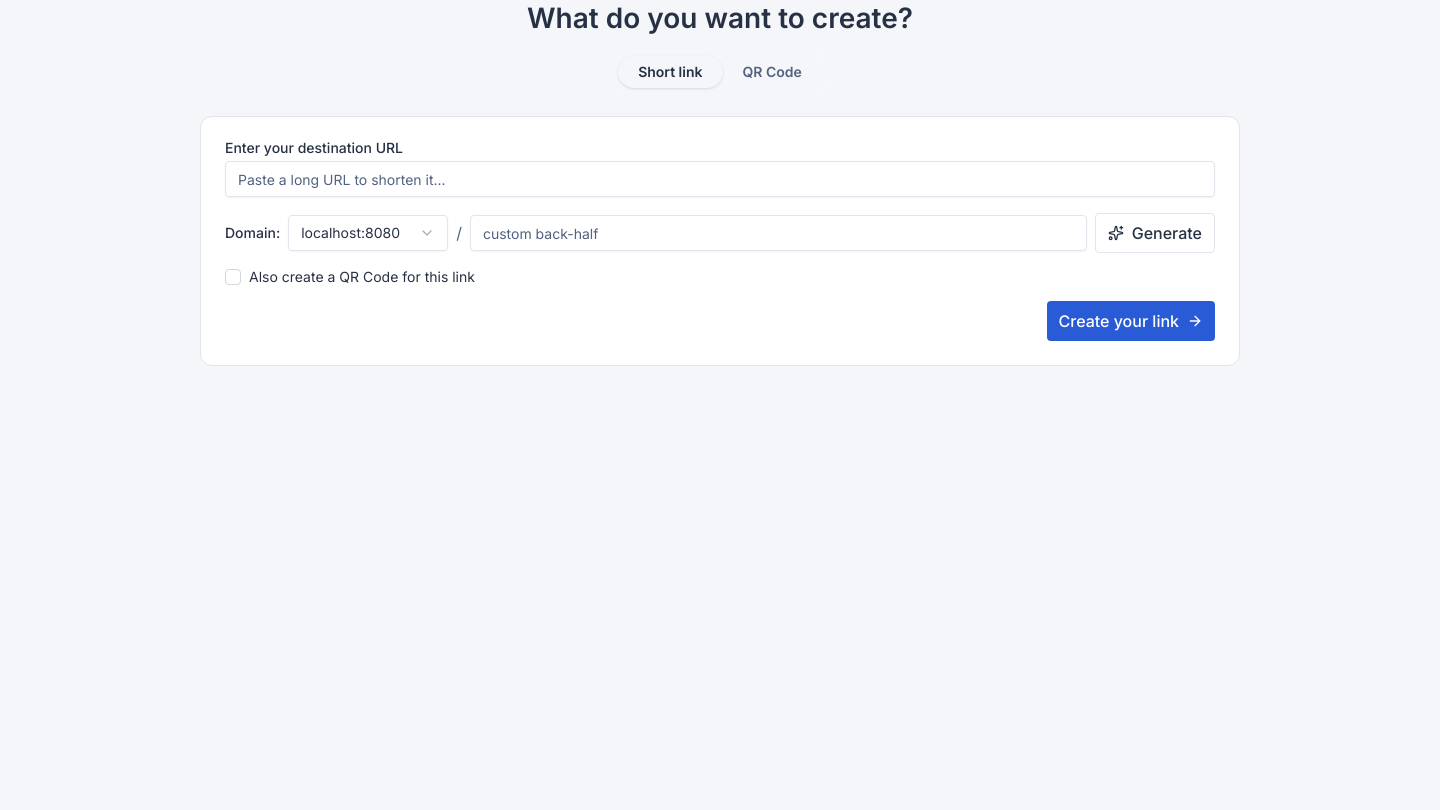
Test case: QuickCreate › Also create a QR Code attaches a code to the new link and offers View QR Code
The width and height of the screenshot is (1440, 810).
Click the checkbox named "Also create a QR Code for this link": (233, 277) top-left (225, 269), bottom-right (241, 285)
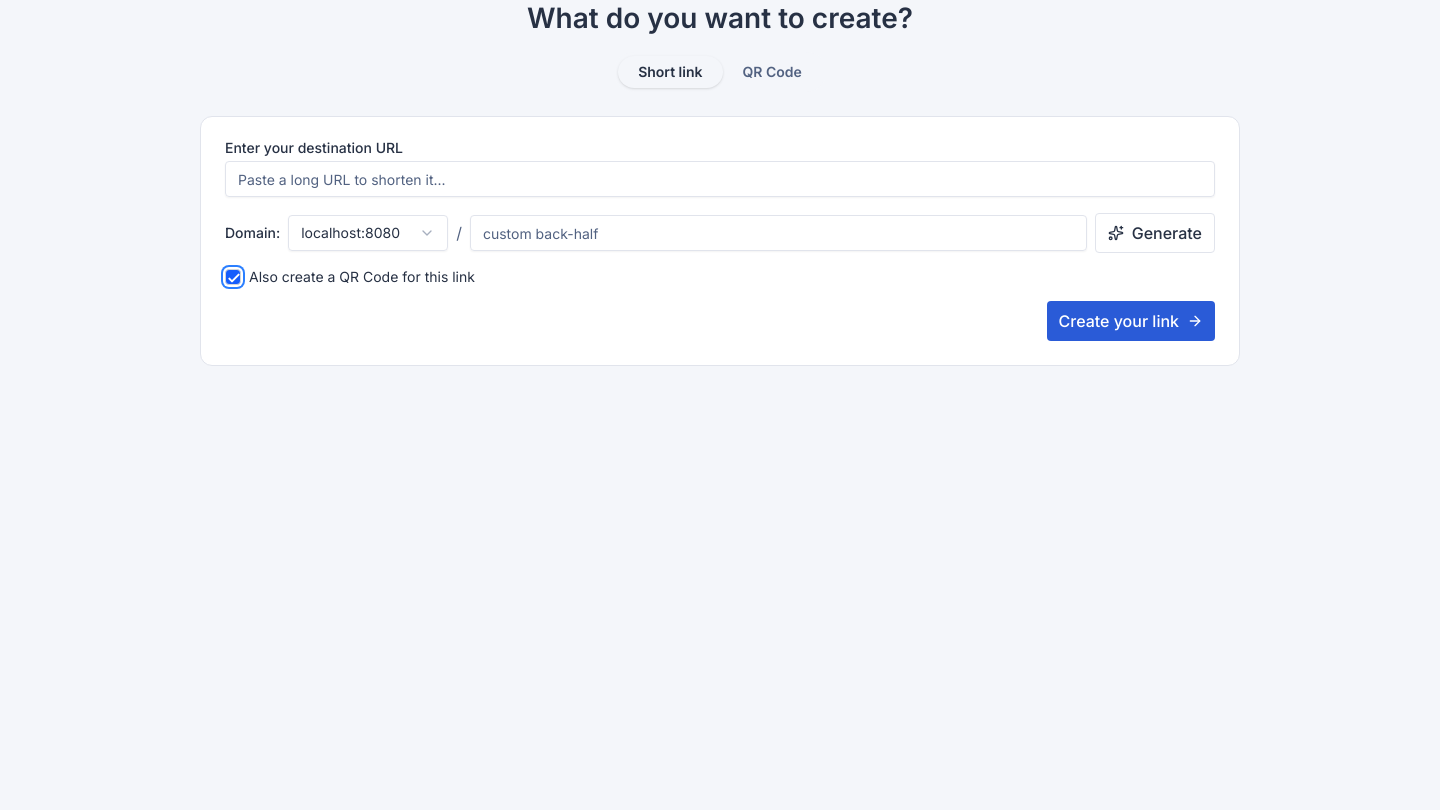
In the field with placeholder "Paste a long URL to shorten it...": (720, 179) top-left (225, 161), bottom-right (1215, 197), type "https://example.com/l"
Then press Enter
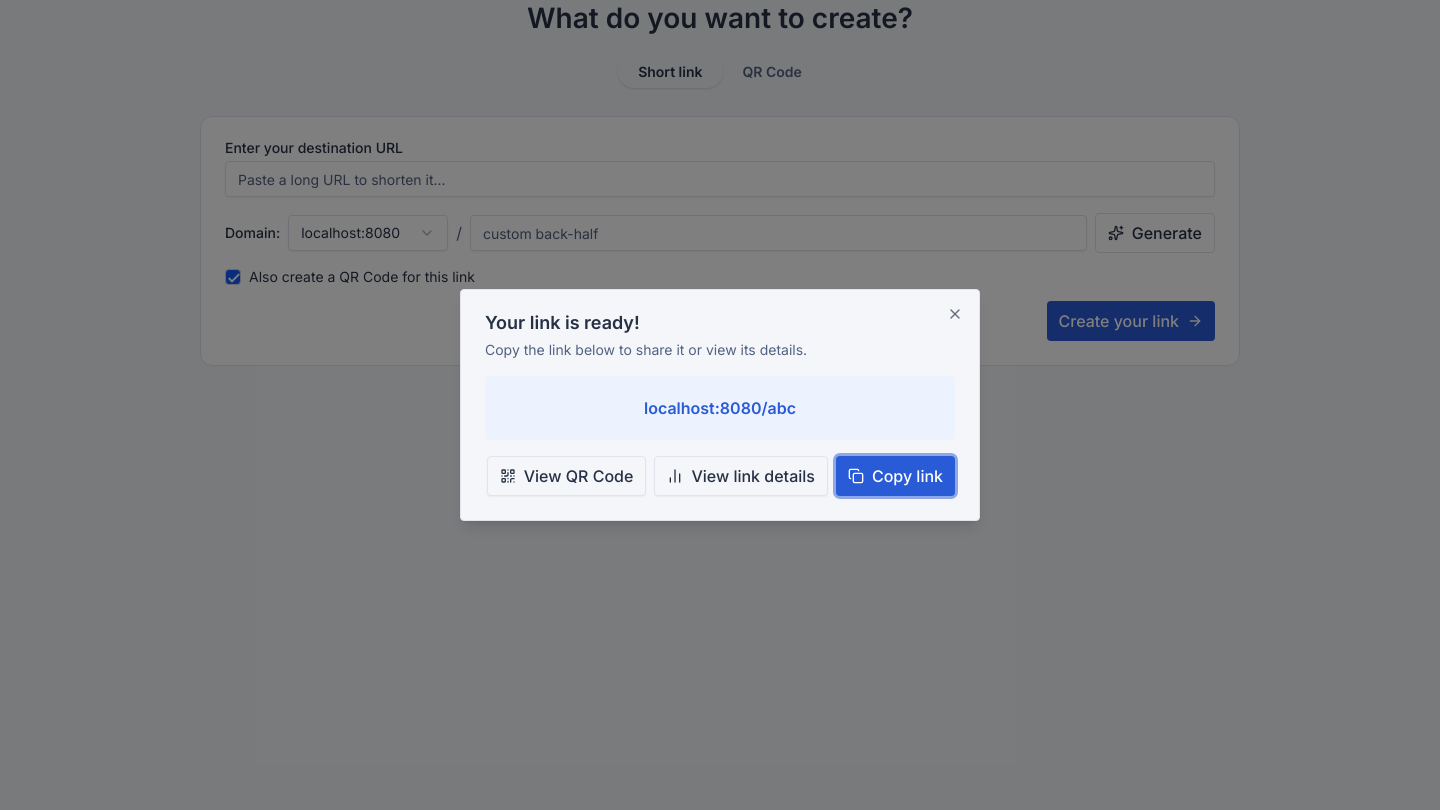
Now the heading "Your link is ready!" is shown, box top-left (485, 312), bottom-right (640, 333)
